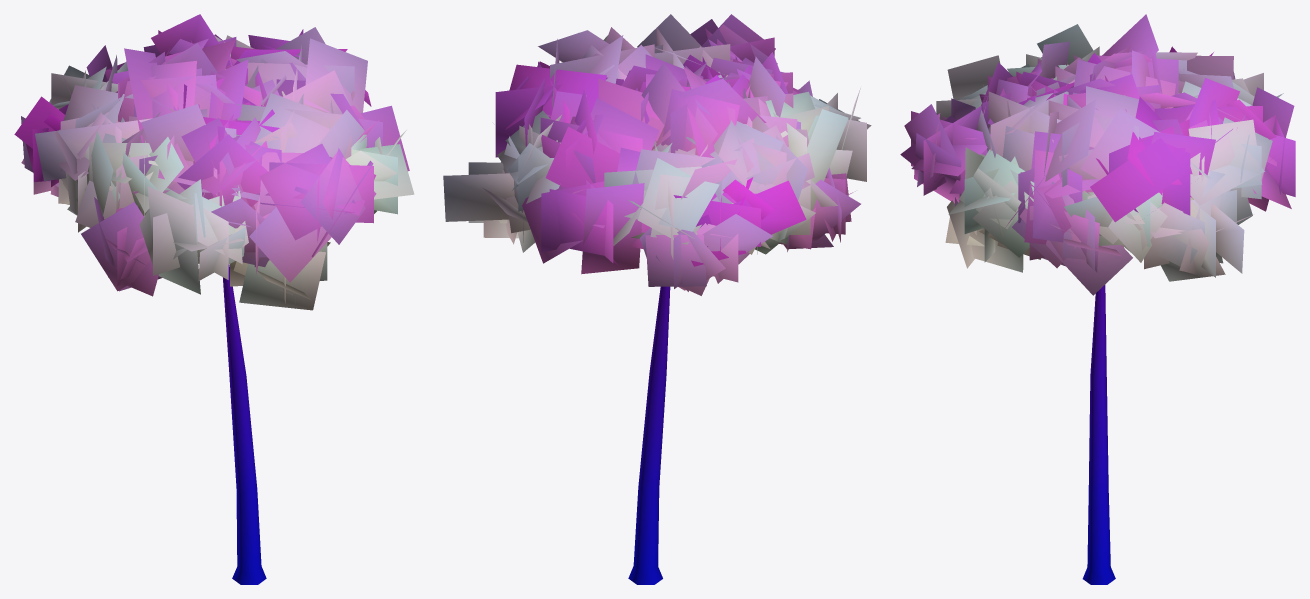
The model's file is pine_b_lod1.glb.
3 views of the same model, side by side, from view 1: azimuth 30°, elevation 25°; view 2: azimuth 150°, elevation 25°; view 3: azimuth 270°, elevation 25° (orthographic). The views are drawn at different scales.
Visible parts, largest first — view 1: pine_b_lod1; view 2: pine_b_lod1; view 3: pine_b_lod1.
Boxes of the visible parts, bbox=[...] form: pine_b_lod1: bbox=[14, 14, 414, 584]; pine_b_lod1: bbox=[443, 14, 871, 584]; pine_b_lod1: bbox=[900, 14, 1295, 584].
Size of the model in its own units: 10.2 by 16.46 by 11.41.
